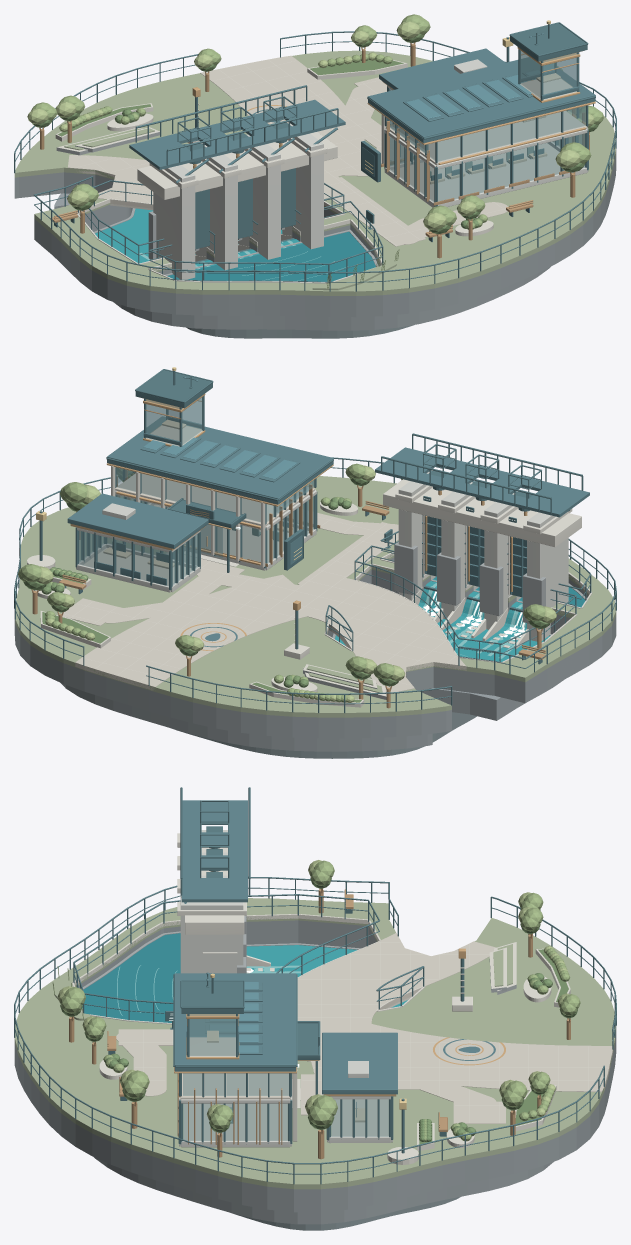
The model's file is flood-control-g.glb.
The picture shows the model from 3 angles, top to bottom: view 1: azimuth 30°, elevation 25°; view 2: azimuth 150°, elevation 25°; view 3: azimuth 270°, elevation 25°; orthographic projection. The views are drawn at different scales.
Parts seen in each view (by area): view 1: Terrain_Foundation_Components__green, Terrain_Foundation_Components__rock, Terrain_Foundation_Components__floor, Triple_Sluice_Mechanics_Components__concrete, Command_Centre_Components__steel_lite, Walkways_Railings_Components__steel, Command_Centre_Components__glass2, Command_Centre_Components__floor, Triple_Sluice_Mechanics_Components__steel_lite, Command_Centre_Components__steel, Triple_Sluice_Mechanics_Components__steel, Hydraulic_Water_Components__water_upper (+27 smaller); view 2: Terrain_Foundation_Components__green, Terrain_Foundation_Components__floor, Terrain_Foundation_Components__rock, Command_Centre_Components__steel_lite, Walkways_Railings_Components__steel, Command_Centre_Components__steel, Triple_Sluice_Mechanics_Components__concrete, Command_Centre_Components__glass2, Triple_Sluice_Mechanics_Components__steel_lite, Triple_Sluice_Mechanics_Components__concrete2, Command_Centre_Components__floor, Triple_Sluice_Mechanics_Components__concrete_shadow (+27 smaller); view 3: Terrain_Foundation_Components__green, Terrain_Foundation_Components__floor, Terrain_Foundation_Components__rock, Command_Centre_Components__steel_lite, Walkways_Railings_Components__steel, Command_Centre_Components__floor, Command_Centre_Components__glass, Riparian_Landscape_Components__leaf2, Triple_Sluice_Mechanics_Components__steel_lite, Command_Centre_Components__steel, Hydraulic_Water_Components__water_upper, Triple_Sluice_Mechanics_Components__concrete (+20 smaller).
Boxes of the visible parts, bbox=[...] form: Terrain_Foundation_Components__green: bbox=[14, 50, 616, 295]; Terrain_Foundation_Components__rock: bbox=[14, 150, 616, 330]; Terrain_Foundation_Components__floor: bbox=[67, 55, 507, 246]; Triple_Sluice_Mechanics_Components__concrete: bbox=[153, 124, 323, 279]; Command_Centre_Components__steel_lite: bbox=[368, 48, 595, 143]; Walkways_Railings_Components__steel: bbox=[14, 31, 616, 291]; Command_Centre_Components__glass2: bbox=[362, 106, 586, 201]; Command_Centre_Components__floor: bbox=[386, 111, 587, 201]; Triple_Sluice_Mechanics_Components__steel_lite: bbox=[129, 99, 345, 183]; Command_Centre_Components__steel: bbox=[367, 23, 595, 206]; Triple_Sluice_Mechanics_Components__steel: bbox=[135, 85, 338, 261]; Hydraulic_Water_Components__water_upper: bbox=[167, 231, 375, 281]; Terrain_Foundation_Components__green: bbox=[15, 476, 616, 717]; Terrain_Foundation_Components__floor: bbox=[62, 508, 466, 692]; Terrain_Foundation_Components__rock: bbox=[14, 557, 616, 751]; Command_Centre_Components__steel_lite: bbox=[67, 416, 333, 585]; Walkways_Railings_Components__steel: bbox=[14, 444, 616, 713]; Command_Centre_Components__steel: bbox=[75, 370, 333, 590]; Triple_Sluice_Mechanics_Components__concrete: bbox=[398, 470, 568, 641]; Command_Centre_Components__glass2: bbox=[78, 467, 313, 586]; Triple_Sluice_Mechanics_Components__steel_lite: bbox=[375, 447, 589, 597]; Triple_Sluice_Mechanics_Components__concrete2: bbox=[383, 479, 581, 648]; Command_Centre_Components__floor: bbox=[83, 473, 314, 585]; Triple_Sluice_Mechanics_Components__concrete_shadow: bbox=[394, 542, 545, 623]; Terrain_Foundation_Components__green: bbox=[14, 898, 616, 1189]; Terrain_Foundation_Components__floor: bbox=[116, 932, 612, 1123]; Terrain_Foundation_Components__rock: bbox=[14, 920, 616, 1224]; Command_Centre_Components__steel_lite: bbox=[174, 973, 397, 1094]; Walkways_Railings_Components__steel: bbox=[14, 800, 616, 1184]; Command_Centre_Components__floor: bbox=[180, 1073, 388, 1140]; Command_Centre_Components__glass: bbox=[183, 1073, 388, 1140]; Riparian_Landscape_Components__leaf2: bbox=[53, 860, 580, 1141]; Triple_Sluice_Mechanics_Components__steel_lite: bbox=[181, 800, 247, 903]; Command_Centre_Components__steel: bbox=[173, 974, 393, 1144]; Hydraulic_Water_Components__water_upper: bbox=[82, 933, 180, 1022]; Triple_Sluice_Mechanics_Components__concrete: bbox=[180, 830, 243, 973].
Size of the model in its own units: 38.89 by 16.72 by 34.55.
